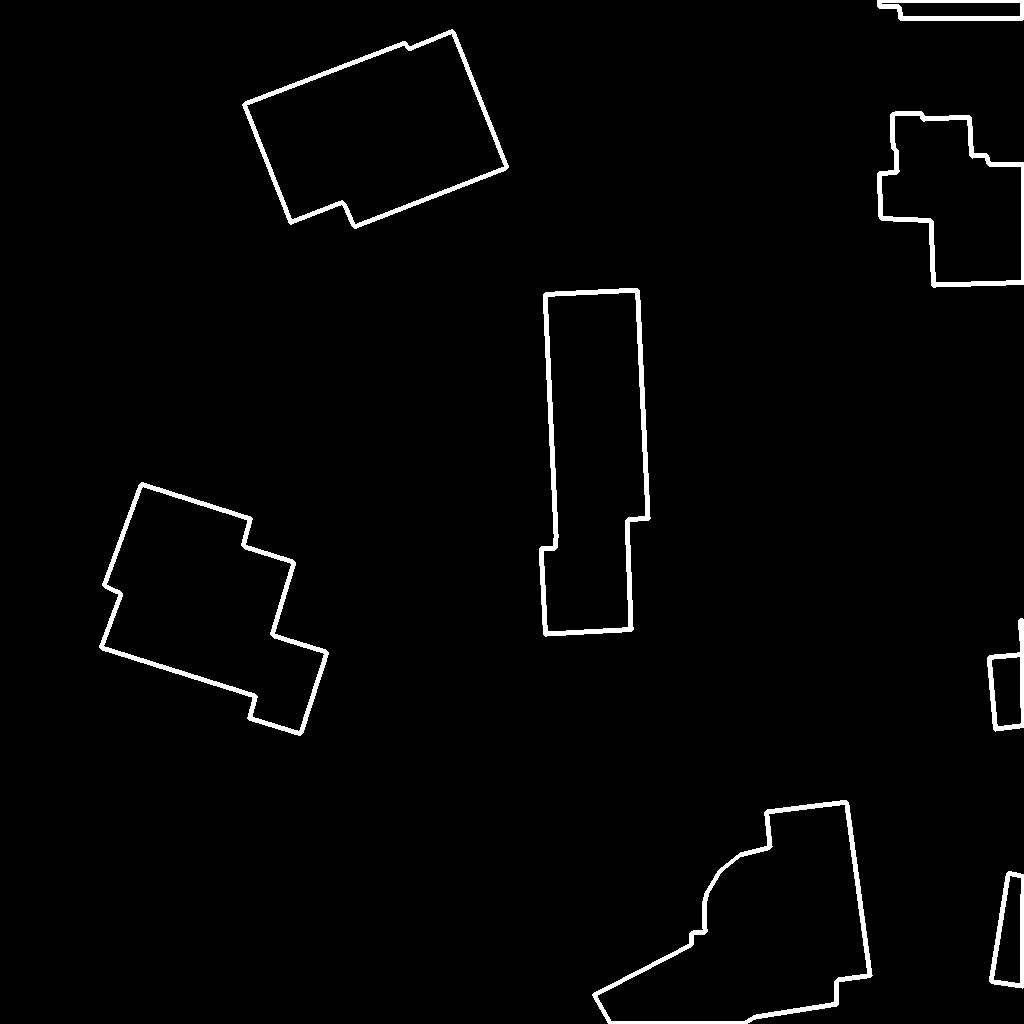building: (594, 802, 871, 1024), (101, 484, 328, 735), (244, 31, 508, 228), (541, 290, 649, 635), (879, 113, 1024, 286), (989, 620, 1024, 730), (991, 873, 1024, 987), (879, 0, 1024, 19)
